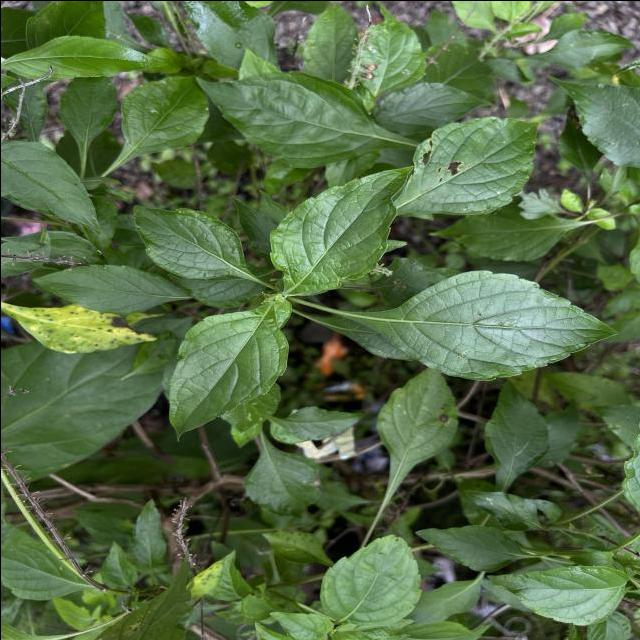Ocimum gratissimum: (318, 267, 624, 382), (188, 68, 418, 171), (266, 163, 416, 298), (165, 298, 292, 448), (396, 114, 544, 220), (372, 366, 462, 502), (130, 203, 268, 284), (314, 532, 424, 630), (0, 136, 105, 237), (482, 562, 634, 627), (28, 260, 193, 318), (0, 32, 172, 84)
